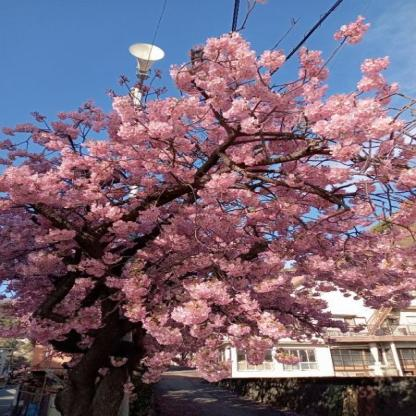KawazuSakura: (0, 13, 415, 406)
